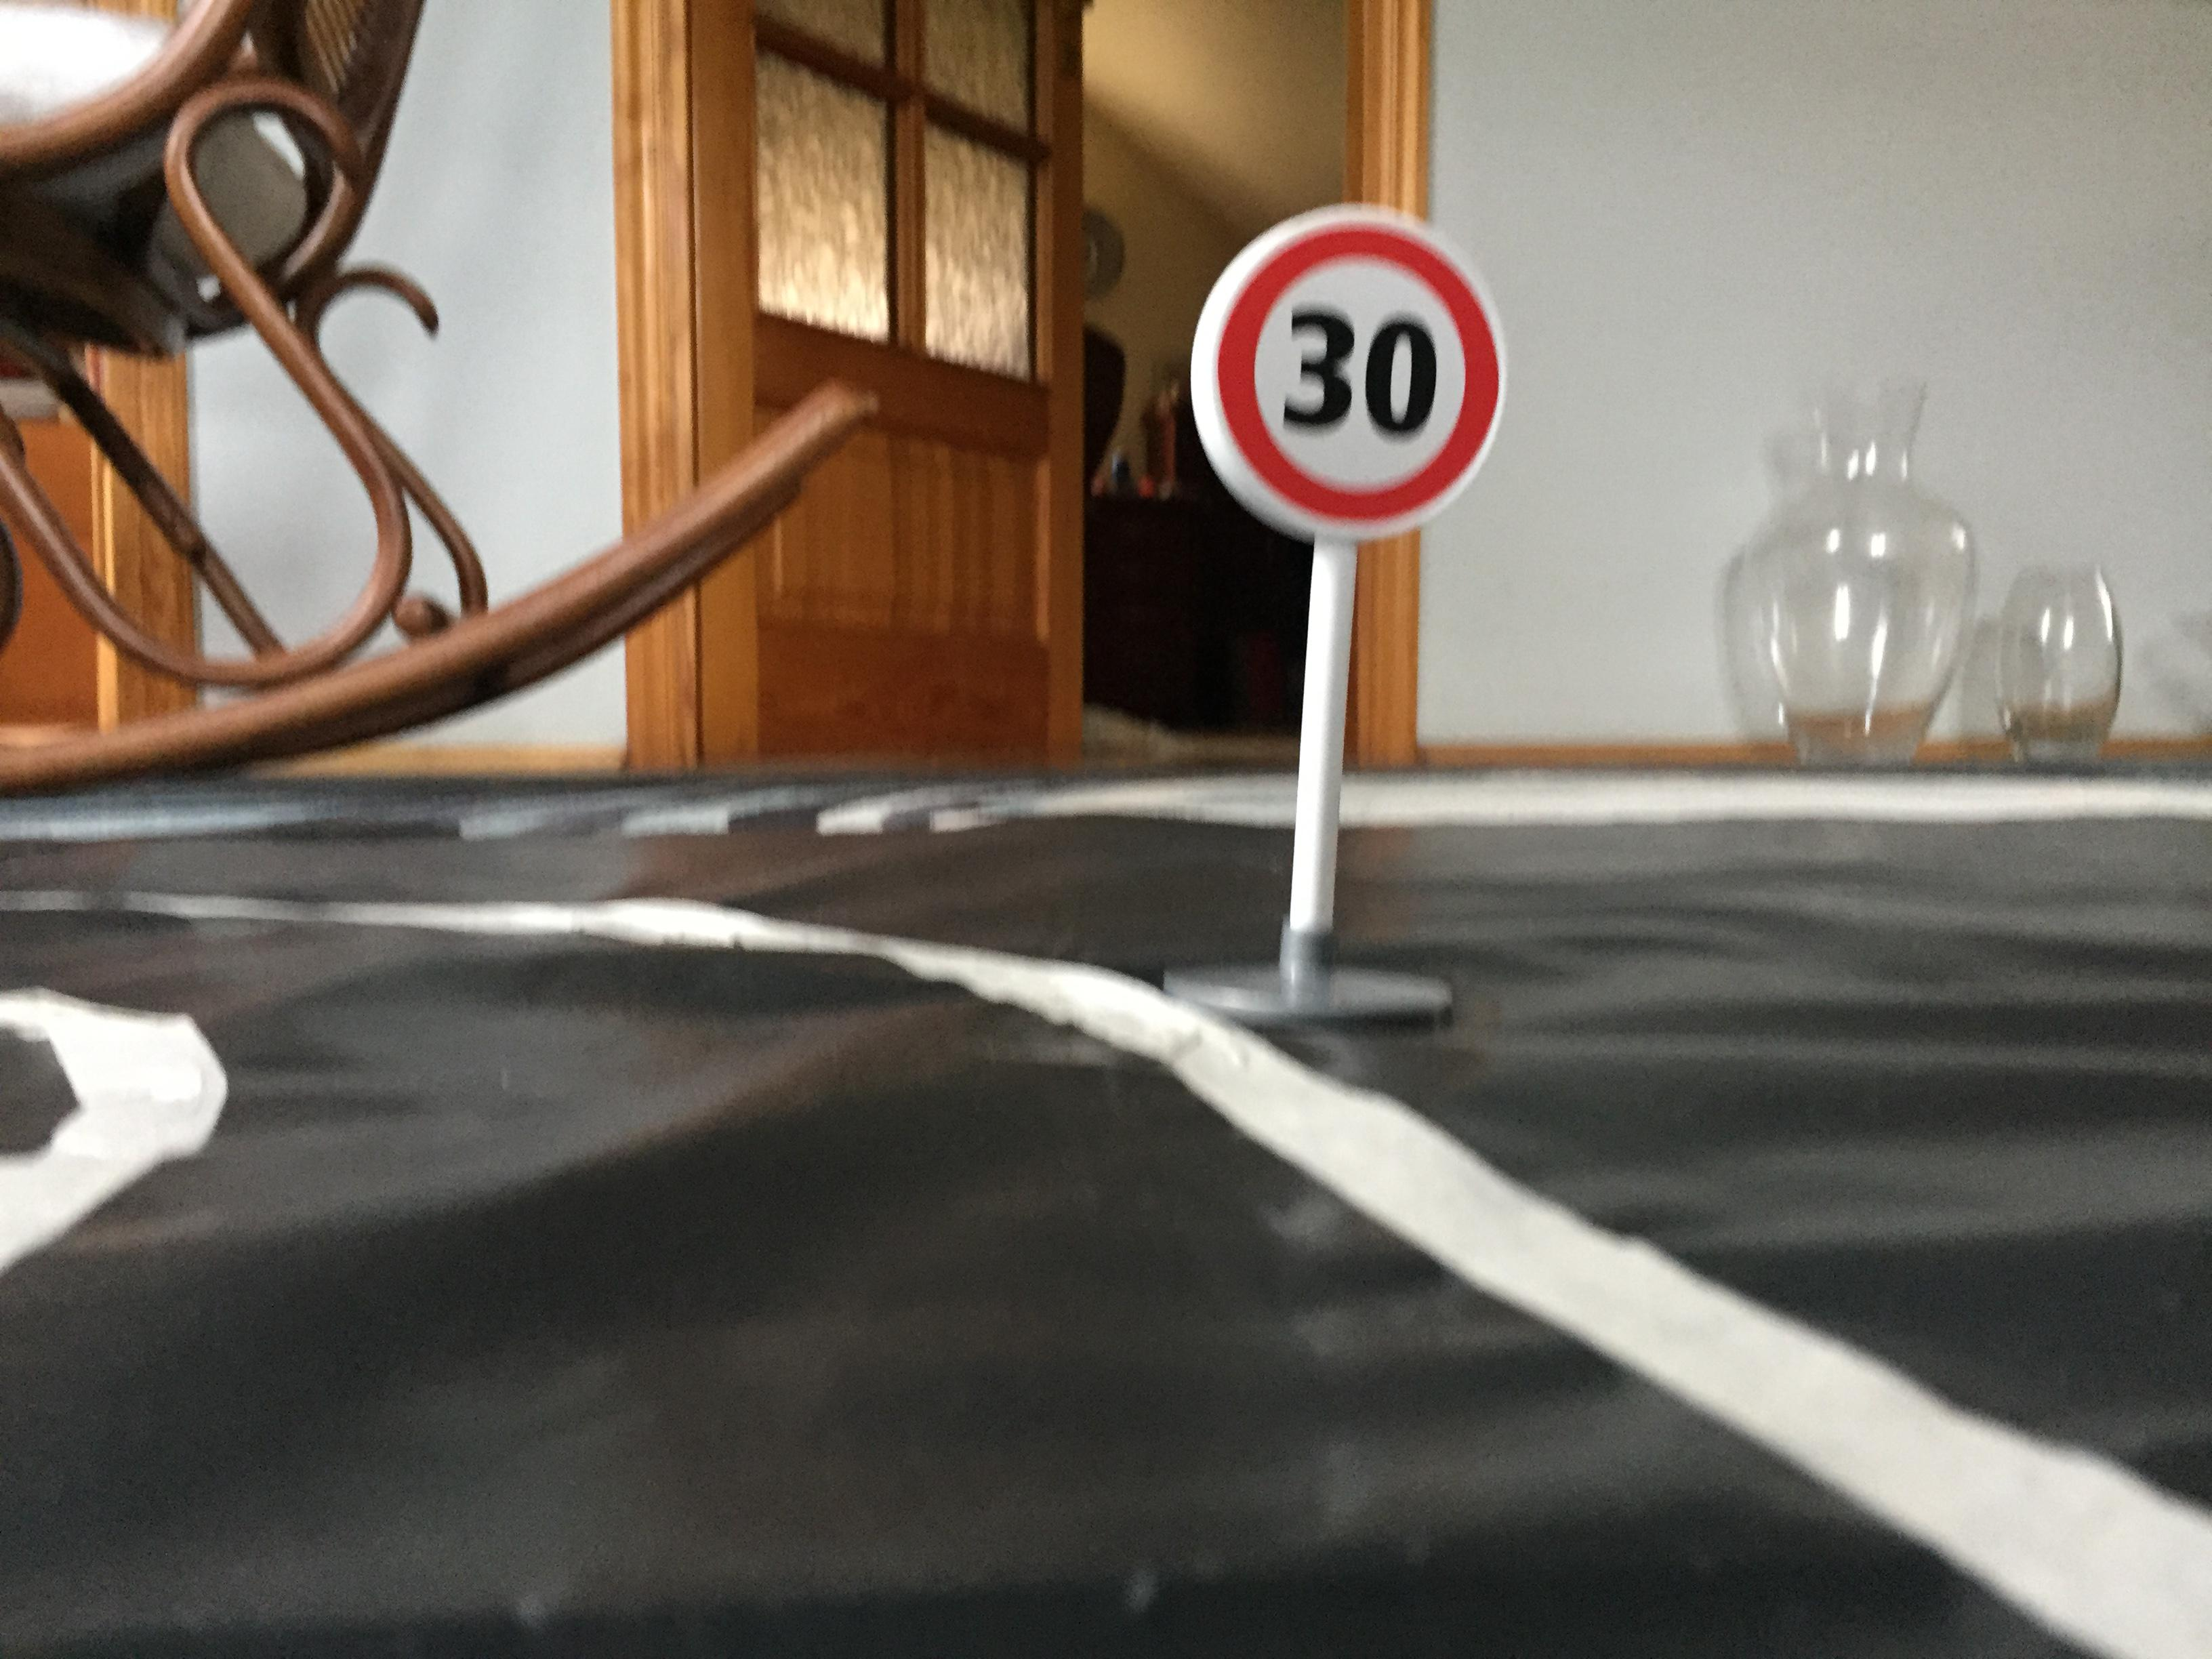speed: (1184, 192, 1531, 551)
